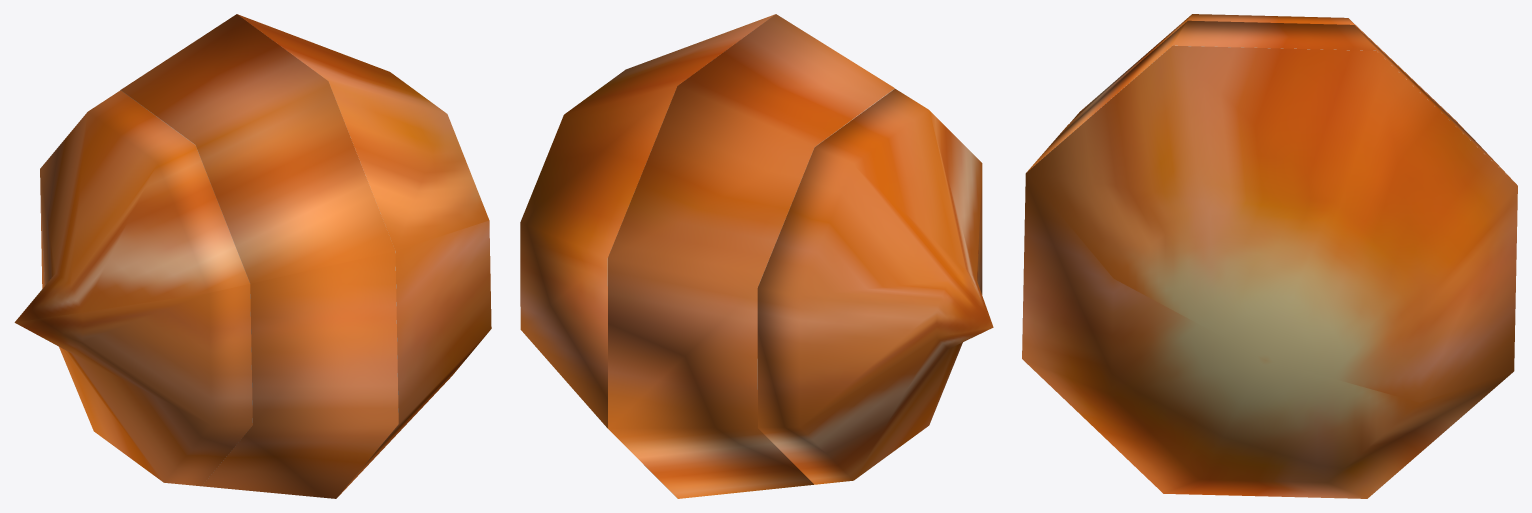
Rendered from Onion.fbx.
The picture shows the model from 3 angles, left to right: view 1: azimuth 30°, elevation 25°; view 2: azimuth 150°, elevation 25°; view 3: azimuth 270°, elevation 25°; orthographic projection. The views are drawn at different scales.
Visible parts, largest first — view 1: Onion_02, Onion_03, Onion_01; view 2: Onion_02, Onion_03, Onion_01; view 3: Onion_01, Onion_02, Onion_03.
Boxes of the visible parts, left/top/right/bottom form: Onion_02: left=120, top=14, right=398, bottom=498; Onion_03: left=14, top=90, right=252, bottom=486; Onion_01: left=237, top=14, right=491, bottom=496; Onion_02: left=608, top=14, right=895, bottom=498; Onion_03: left=757, top=89, right=993, bottom=484; Onion_01: left=520, top=14, right=775, bottom=498; Onion_01: left=1022, top=45, right=1517, bottom=498; Onion_02: left=1022, top=20, right=1516, bottom=334; Onion_03: left=1070, top=14, right=1463, bottom=128.
Bounding box in the file's own units: 18.55 × 16.89 × 16.89.
